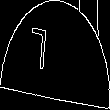L_S: (44, 28, 66, 82)
